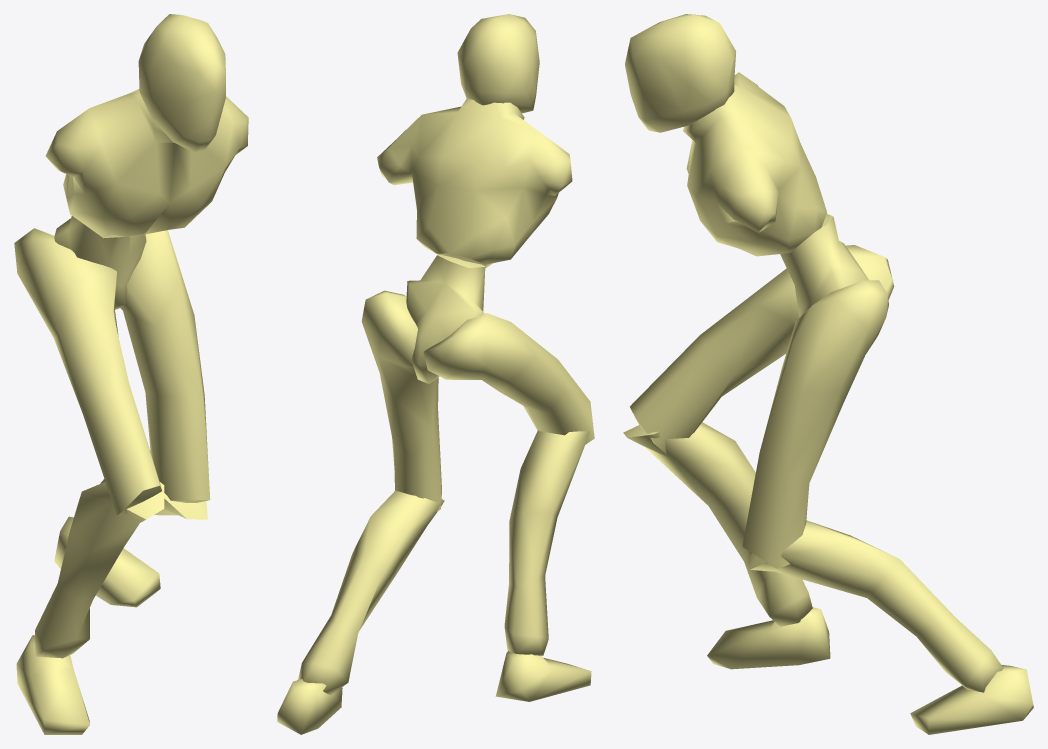
Rendered from filth4.obj.
3 renders of one model, left to right at view 1: azimuth 30°, elevation 25°; view 2: azimuth 150°, elevation 25°; view 3: azimuth 270°, elevation 25°, orthographic. The views are drawn at different scales.
Visible parts, largest first — view 1: Melee_Husk; view 2: Melee_Husk; view 3: Melee_Husk.
Part boxes in pixels (box(x1,y1,x2,y2)): Melee_Husk: box(14, 14, 248, 734); Melee_Husk: box(277, 14, 594, 734); Melee_Husk: box(623, 14, 1033, 734).
Size of the model in its own units: 22.17 by 67.84 by 36.48.
